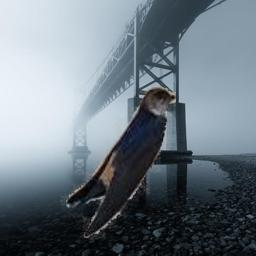Swallow: (29, 87, 176, 246)
